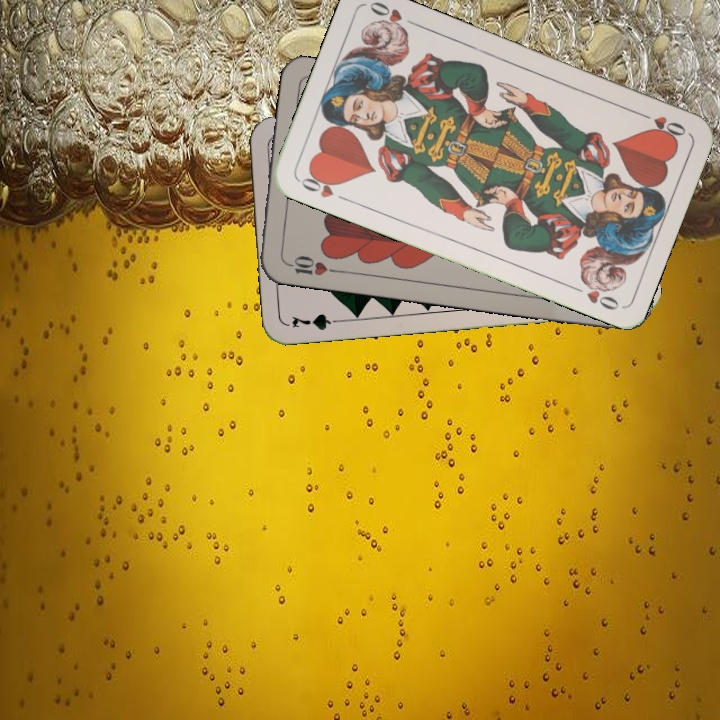G7: (288, 309, 346, 333)
H10: (280, 251, 339, 279)
HO: (295, 168, 352, 204), (633, 107, 689, 141)
